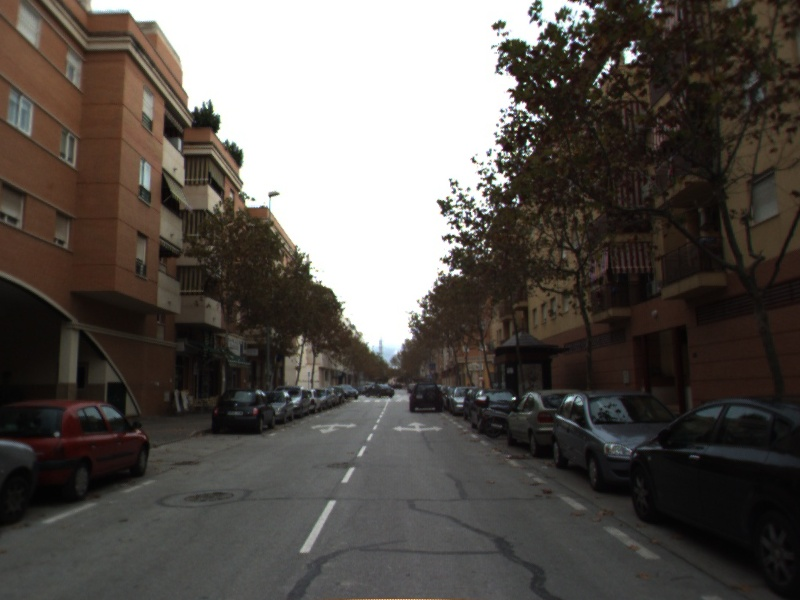STRAIGHT_LEFT_RIGHT: (391, 419, 444, 434)
